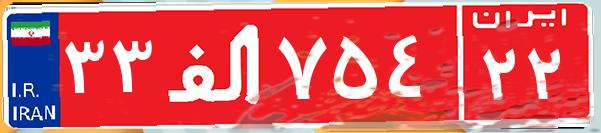2: (475, 38, 525, 113), (525, 38, 570, 115)
3: (57, 26, 110, 107), (110, 28, 158, 105)
4: (385, 28, 445, 110)
5: (330, 28, 385, 110)
7: (273, 28, 330, 110)
الف: (158, 15, 273, 115)
